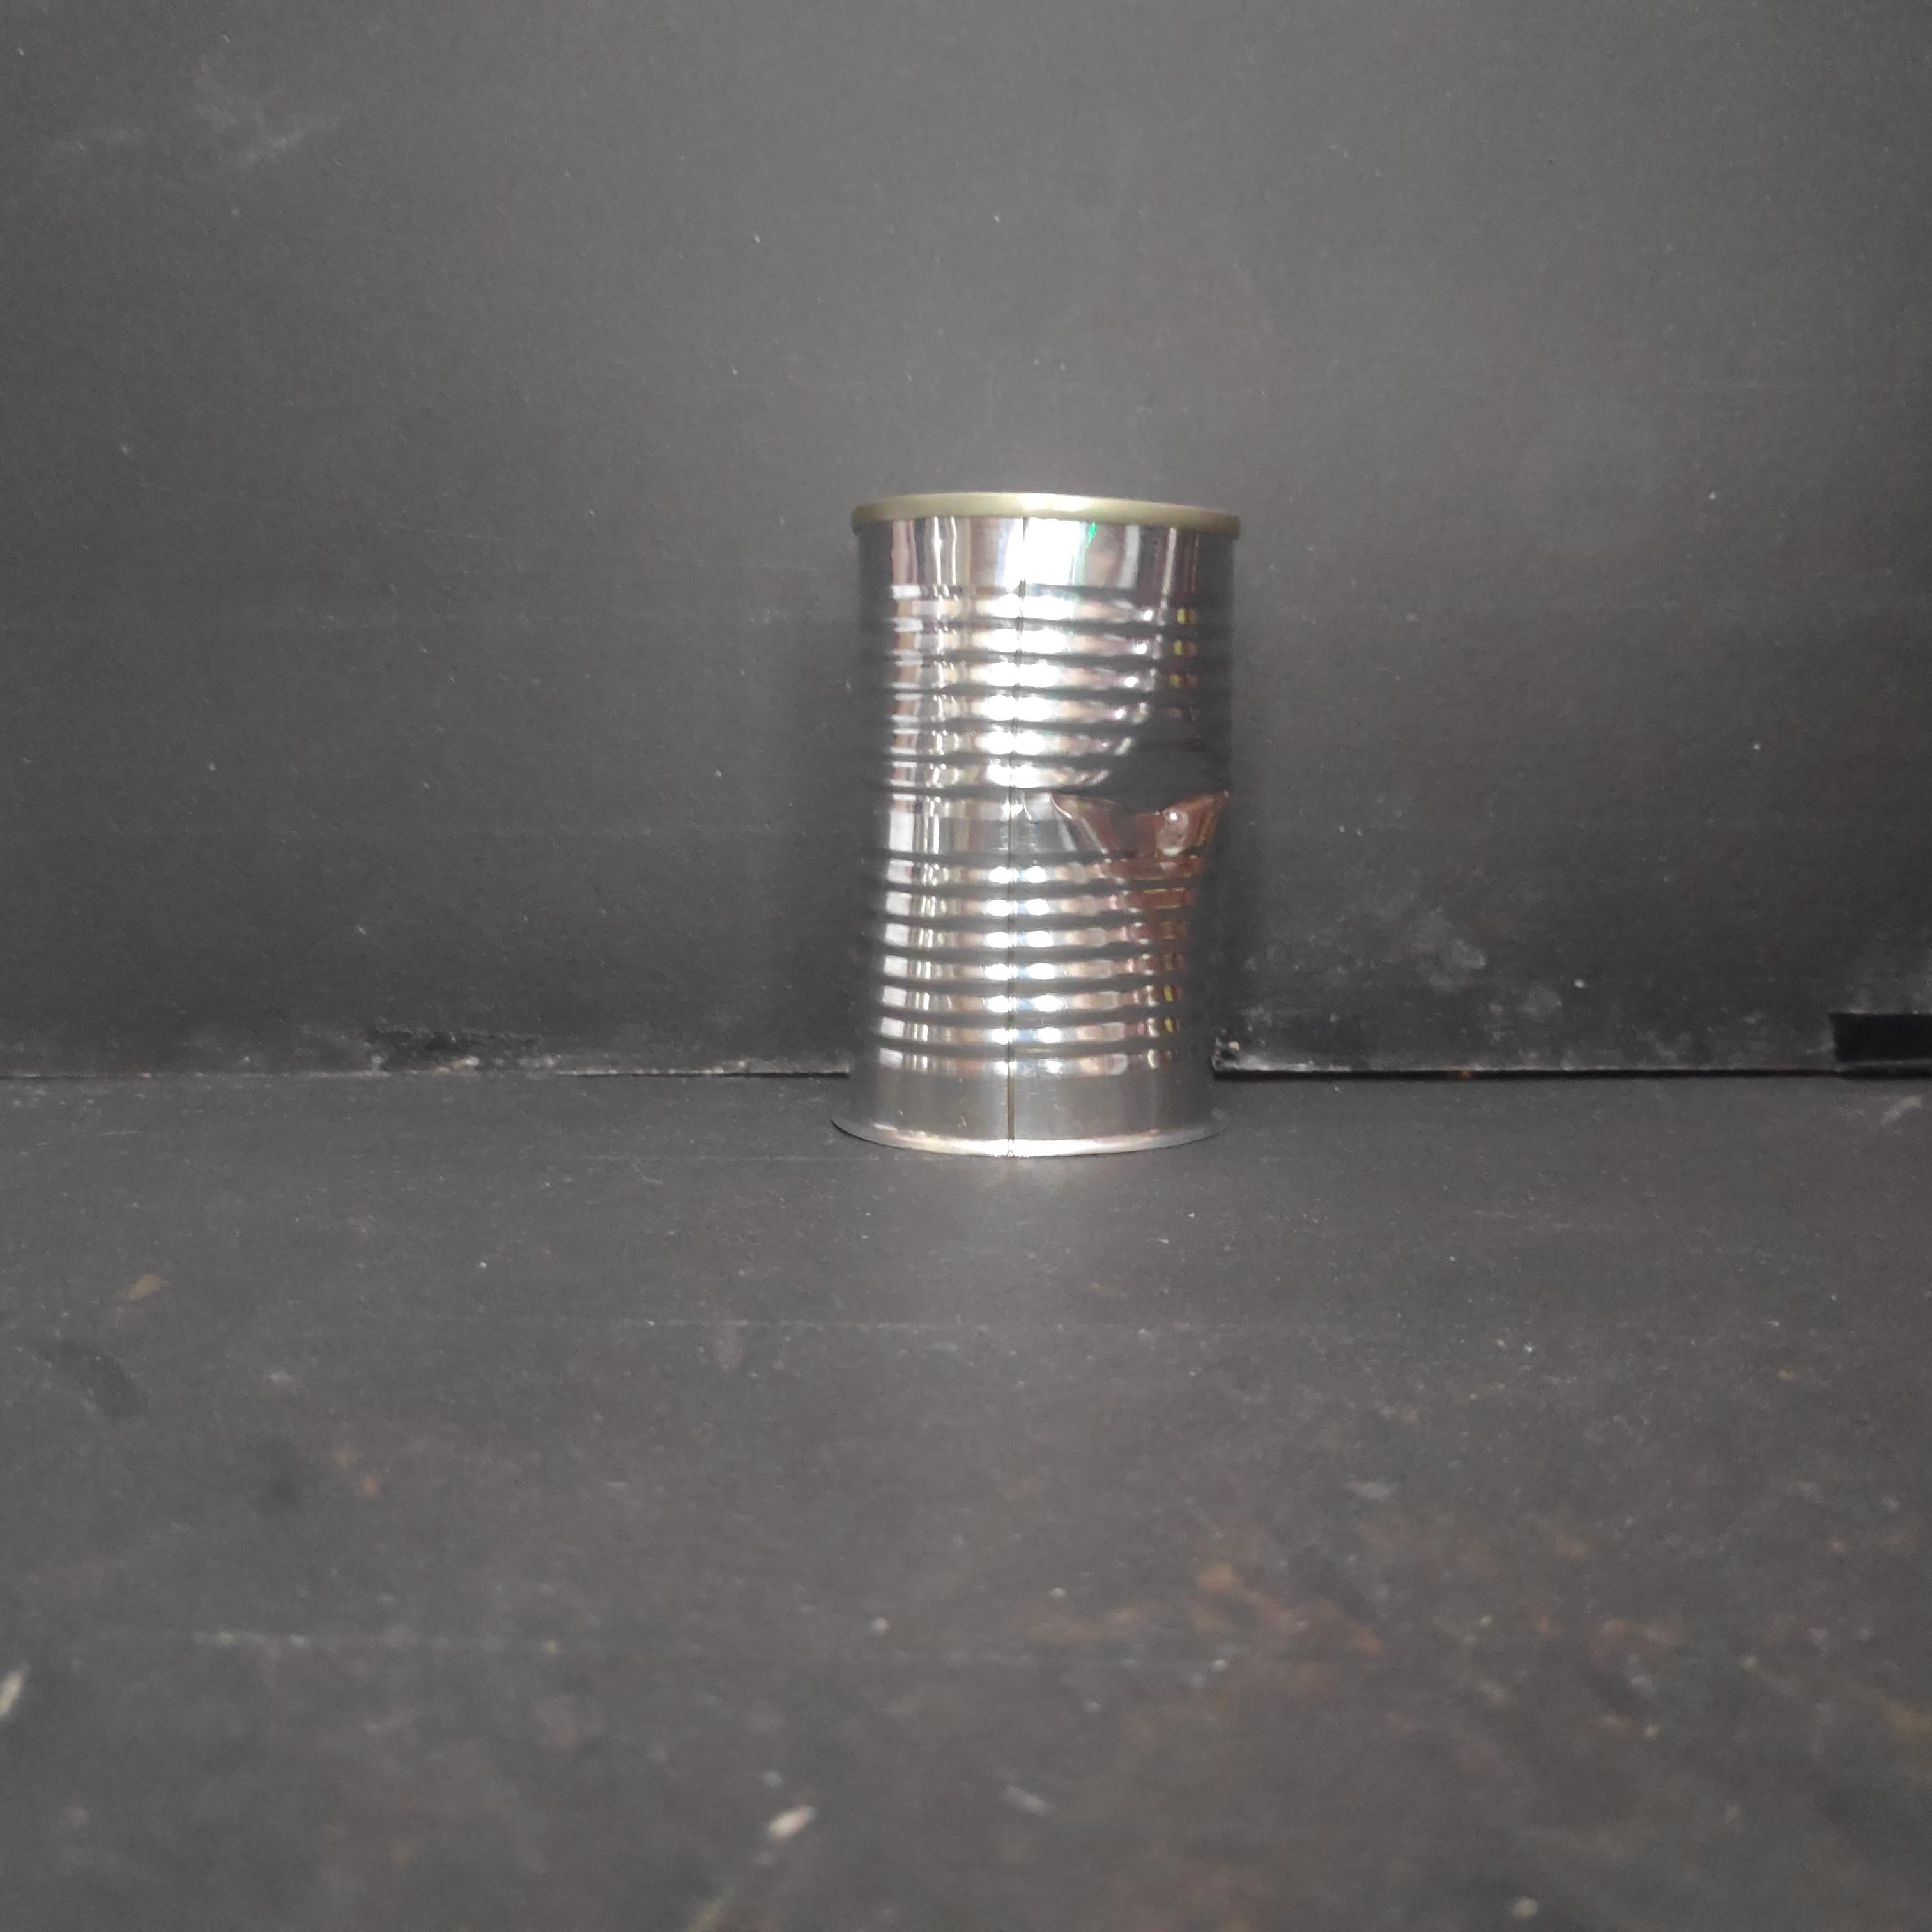Minor Defect: (835, 483, 1247, 1168)
